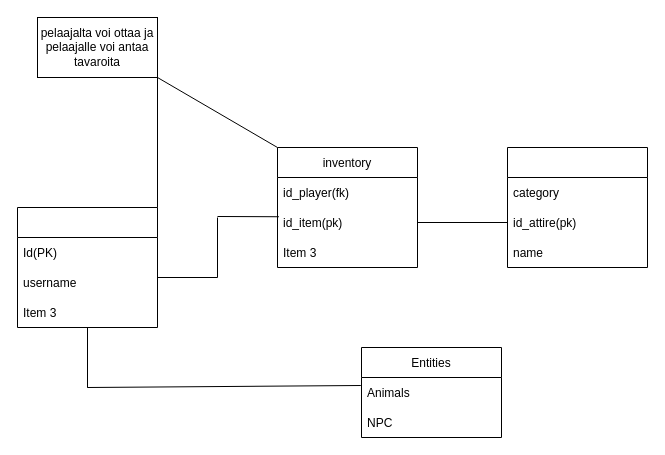
This 665x455 diagram has some shape labels left out. Here are the shapes that lost their labels. From the top down, the box of each, then its label:
(506, 146, 648, 268): item
(16, 206, 158, 328): Players
